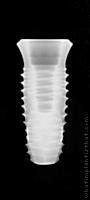Cowellmedi: (16, 39, 73, 166)
